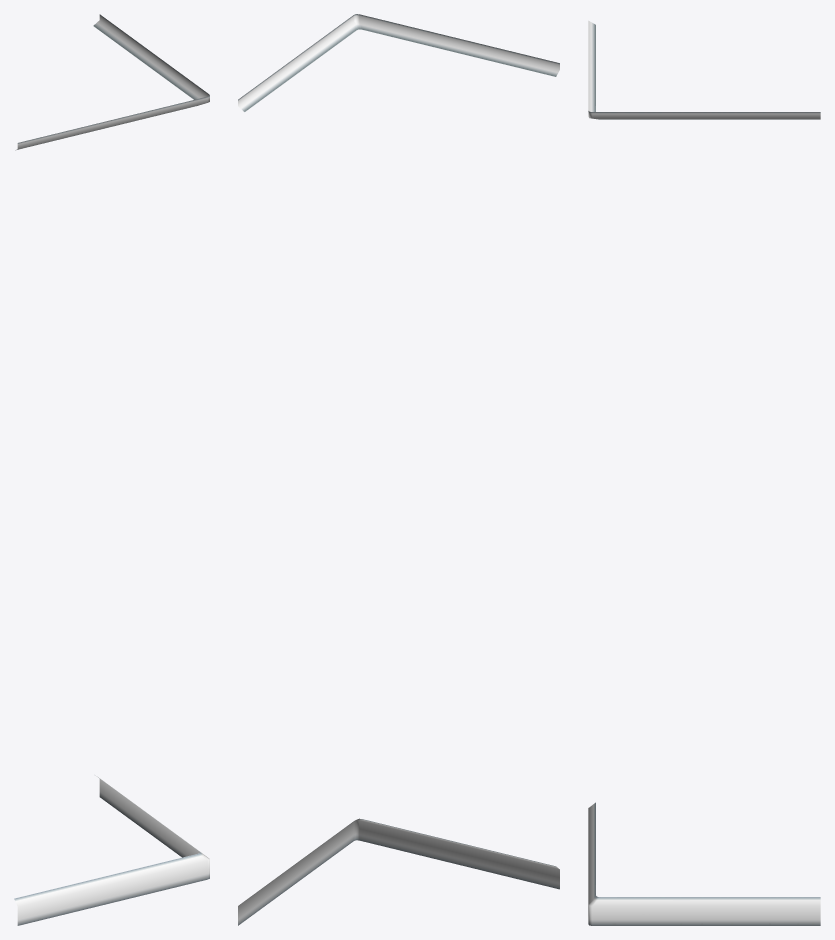
File: waitingroom_white_convex_short_edge.dae
The picture shows the model from 3 angles, left to right: view 1: azimuth 30°, elevation 25°; view 2: azimuth 150°, elevation 25°; view 3: azimuth 270°, elevation 25°; orthographic projection. The views are drawn at different scales.
Visible parts, largest first — view 1: polySurface42; view 2: polySurface42; view 3: polySurface42.
Part boxes in pixels (box(x1,y1,x2,y2)): polySurface42: box(14, 14, 209, 925); polySurface42: box(238, 14, 559, 925); polySurface42: box(588, 20, 820, 925).
Bounding box in the file's own units: 1.03 × 4 × 1.03.
1 material, 1 textured.
